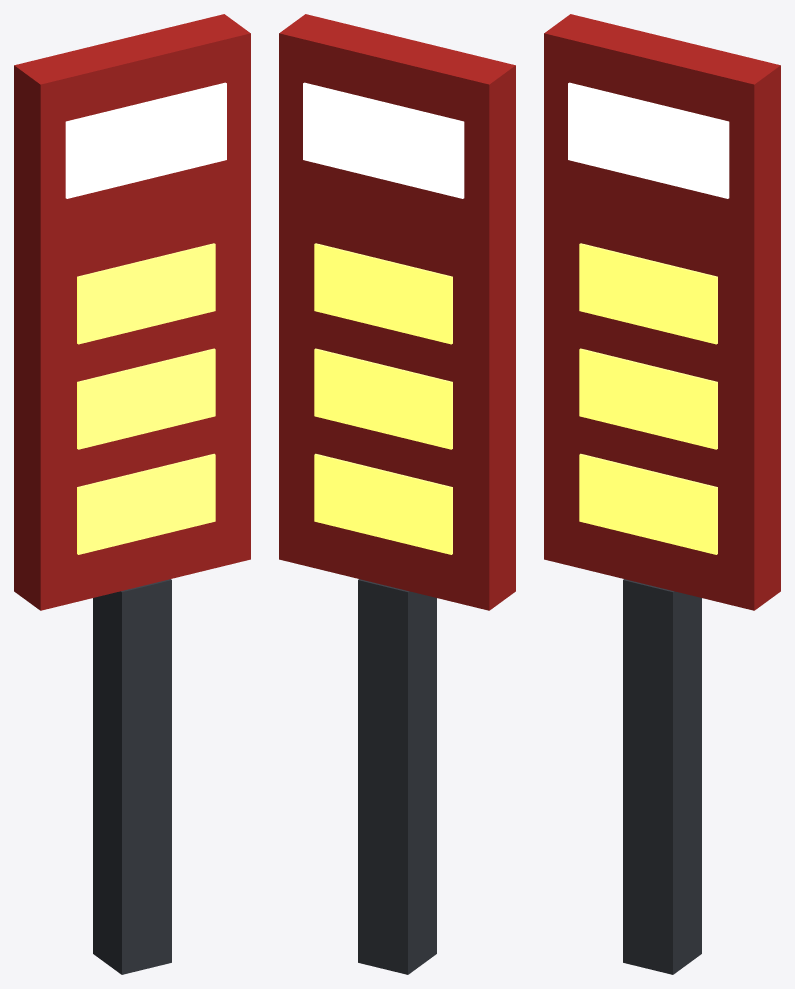
Rendered from pos-placa-precos.gltf.
The picture shows the model from 3 angles, left to right: view 1: azimuth 30°, elevation 25°; view 2: azimuth 150°, elevation 25°; view 3: azimuth 330°, elevation 25°; orthographic projection.
Visible parts, largest first — view 1: pos-placa-precos; view 2: pos-placa-precos; view 3: pos-placa-precos.
Part boxes in pixels (x1=…): pos-placa-precos: x1=14, y1=14, x2=250, y2=974; pos-placa-precos: x1=279, y1=14, x2=515, y2=974; pos-placa-precos: x1=544, y1=14, x2=780, y2=974.
Size of the model in its own units: 0.92 by 3.8 by 0.22.
